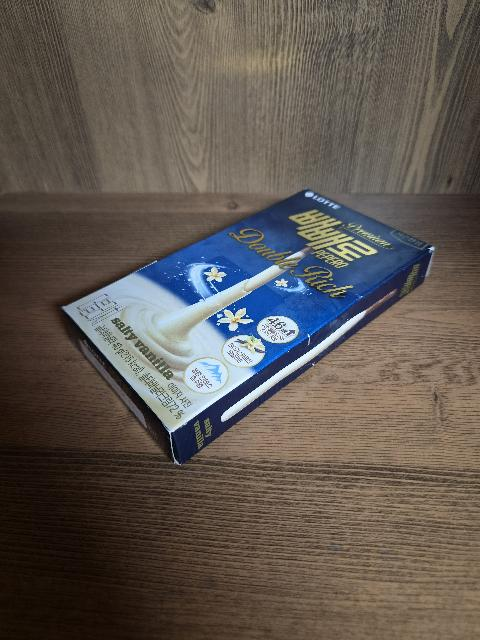pepero: (60, 187, 434, 465)
